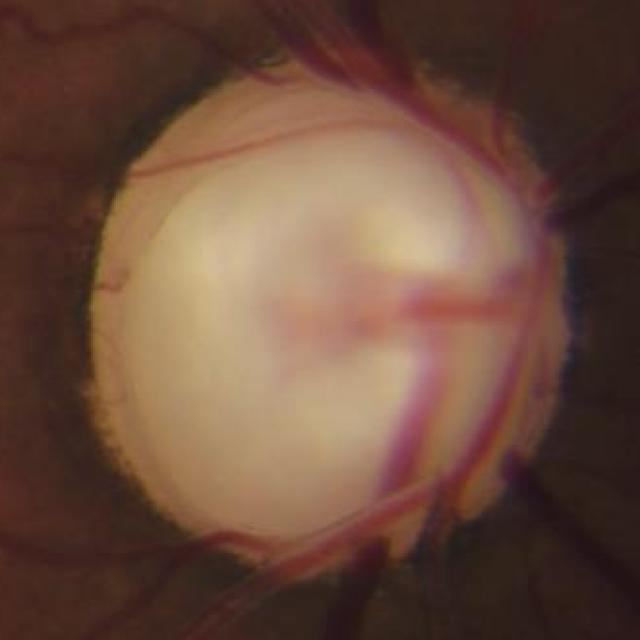OC: (159, 133, 495, 458)
OD: (81, 44, 576, 572)
